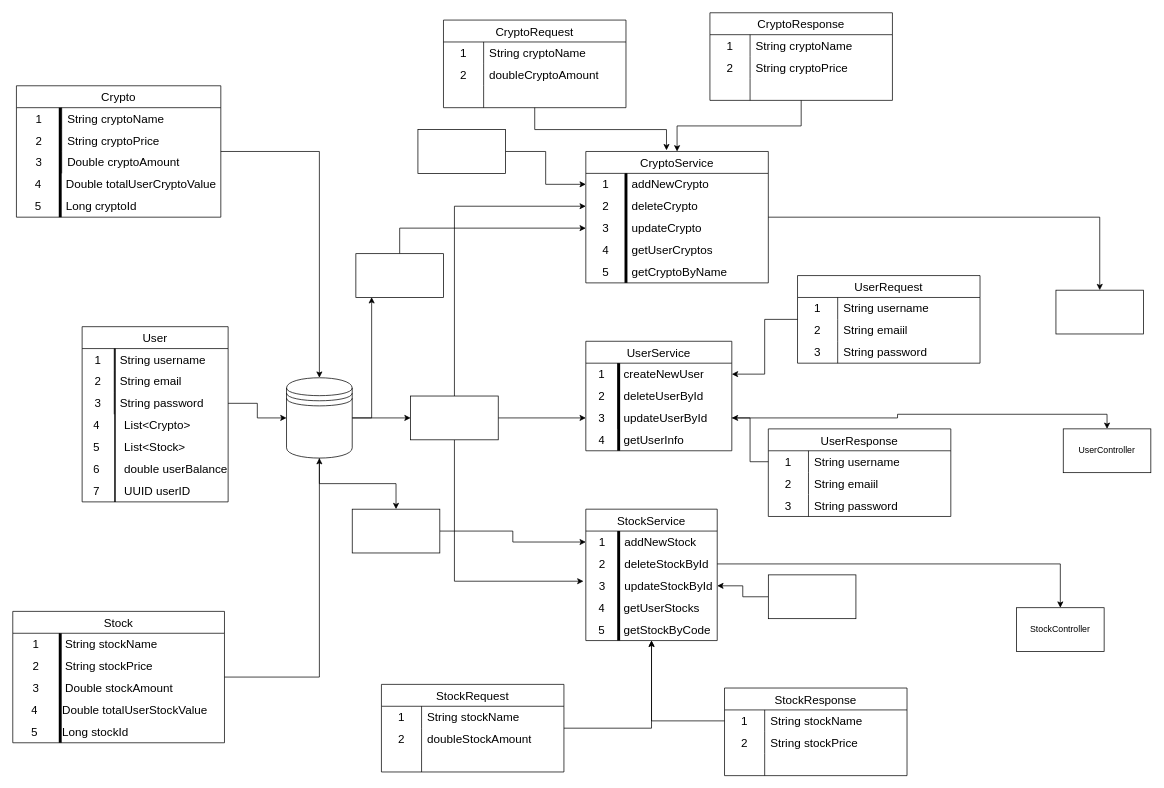
The diagram is 1164 pixels wide and 788 high, and some of its shapes have lost their labels. Each missing label, with the centre of its shape:
"BrapiService OpenFeign" goes at [812,596].
"CoinCapService OpenFeign" goes at [461,151].
"CryptoController" goes at [1099,311].
"CryptoRepository" goes at [399,275].
"PostGreSQL" goes at [319,417].
"StockRepository" goes at [395,530].
"UserRepository" goes at [454,417].
